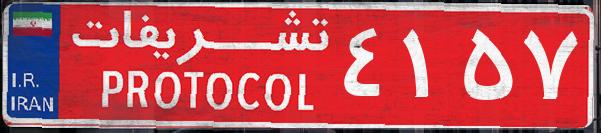1: (400, 20, 460, 115)
4: (340, 20, 400, 115)
5: (460, 20, 520, 115)
7: (520, 20, 580, 115)
تشریفات: (60, 8, 340, 125)
